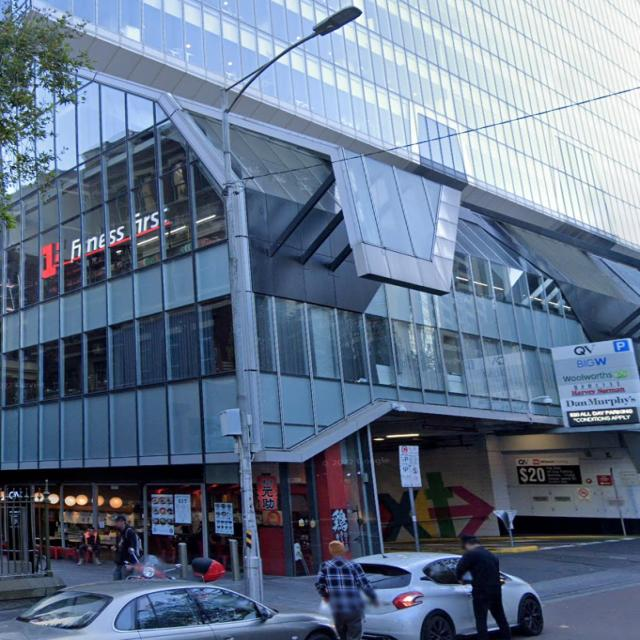mid mount suitable pole: (221, 4, 364, 606)
steel-pole: (220, 88, 264, 604)
streetlight: (224, 5, 363, 113)
